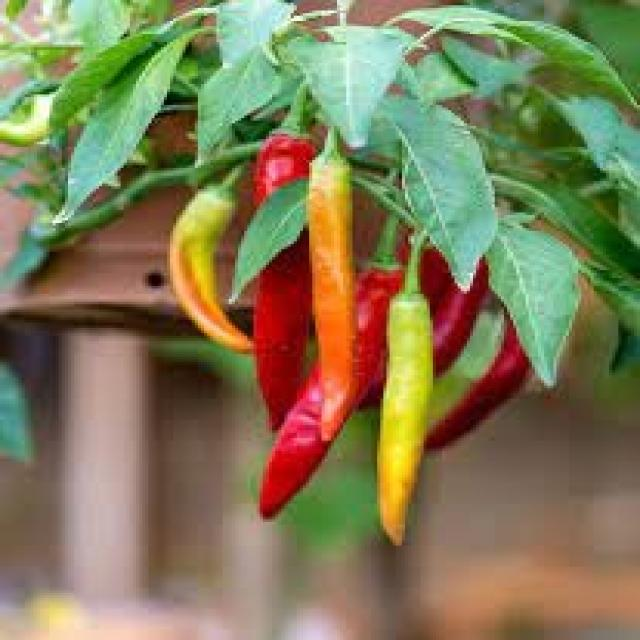Mosaic_virus: (0, 0, 640, 523)
